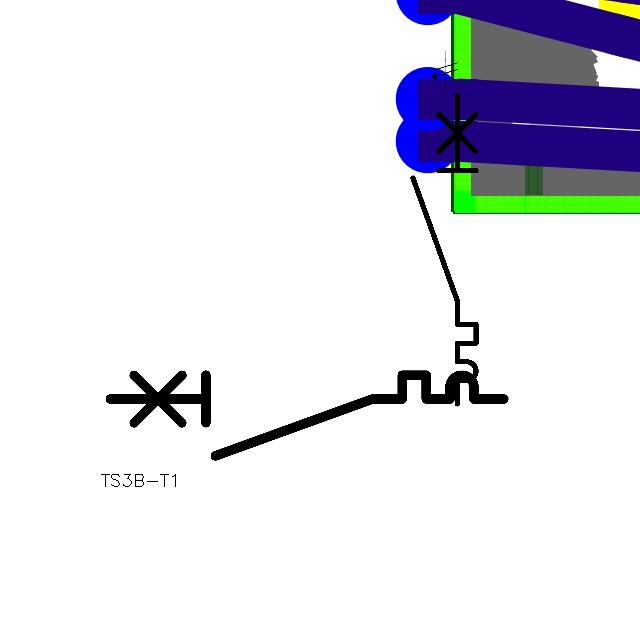interruptor_termomagnetico: (100, 365, 514, 466), (405, 87, 484, 411)
